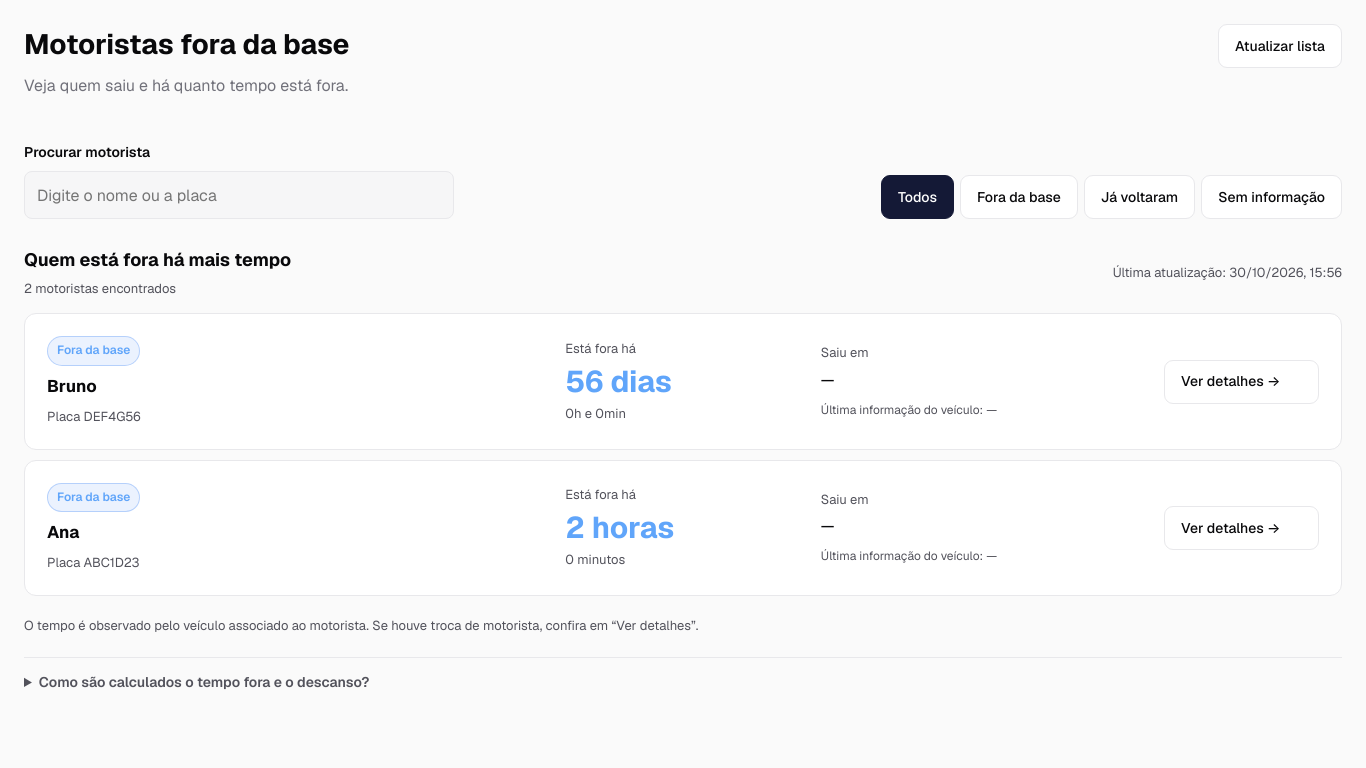
Scenario: prioriza maior tempo fora e mostra uma única ação por motorista antes dos detalhes
Expected: the text "56 dias" is shown, 565,362 -> 672,401
Expected: the button "Registrar uma folga já tirada" is not shown
Click the button with aria-label "Ver detalhes de Bruno" at point(1242, 382), box 1164,360 -> 1319,404
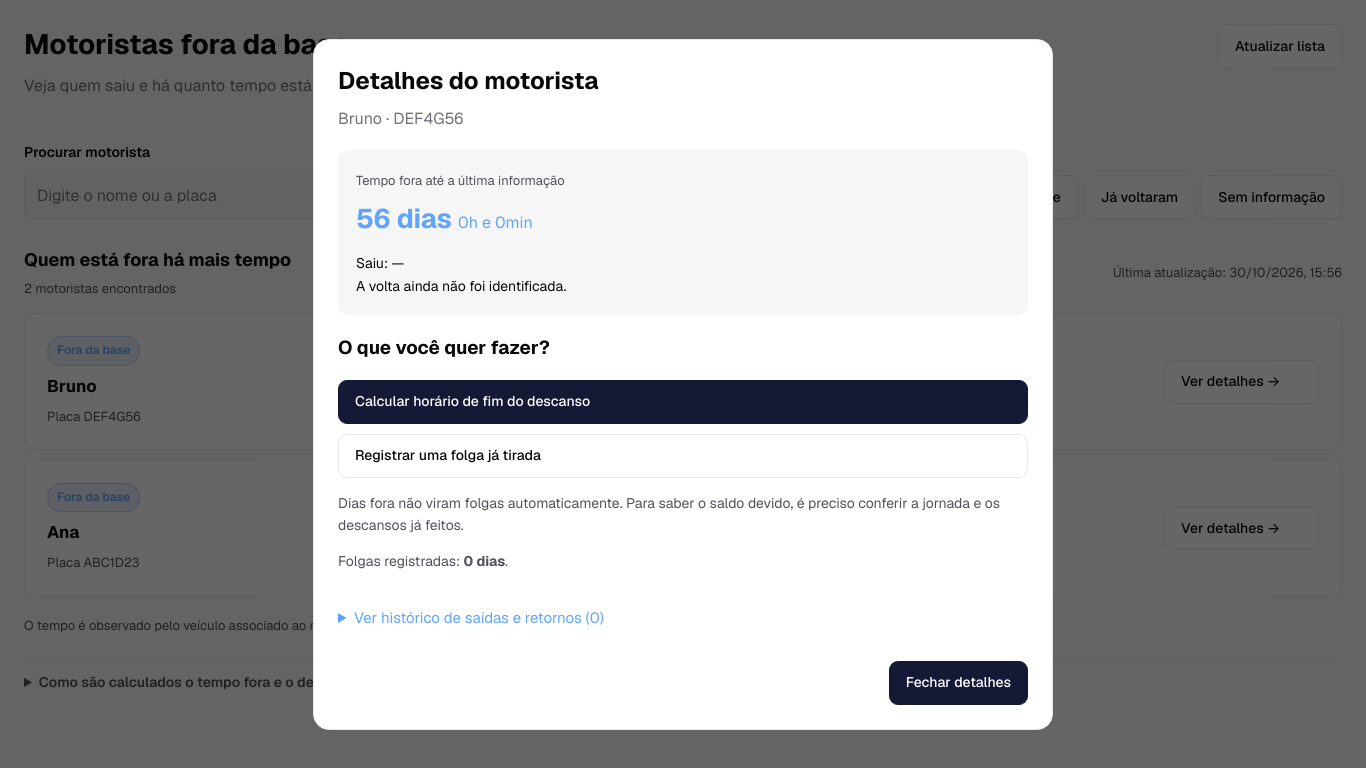
Expected: the button "Registrar uma folga já tirada" is shown, 338,434 -> 1028,478
Press Escape
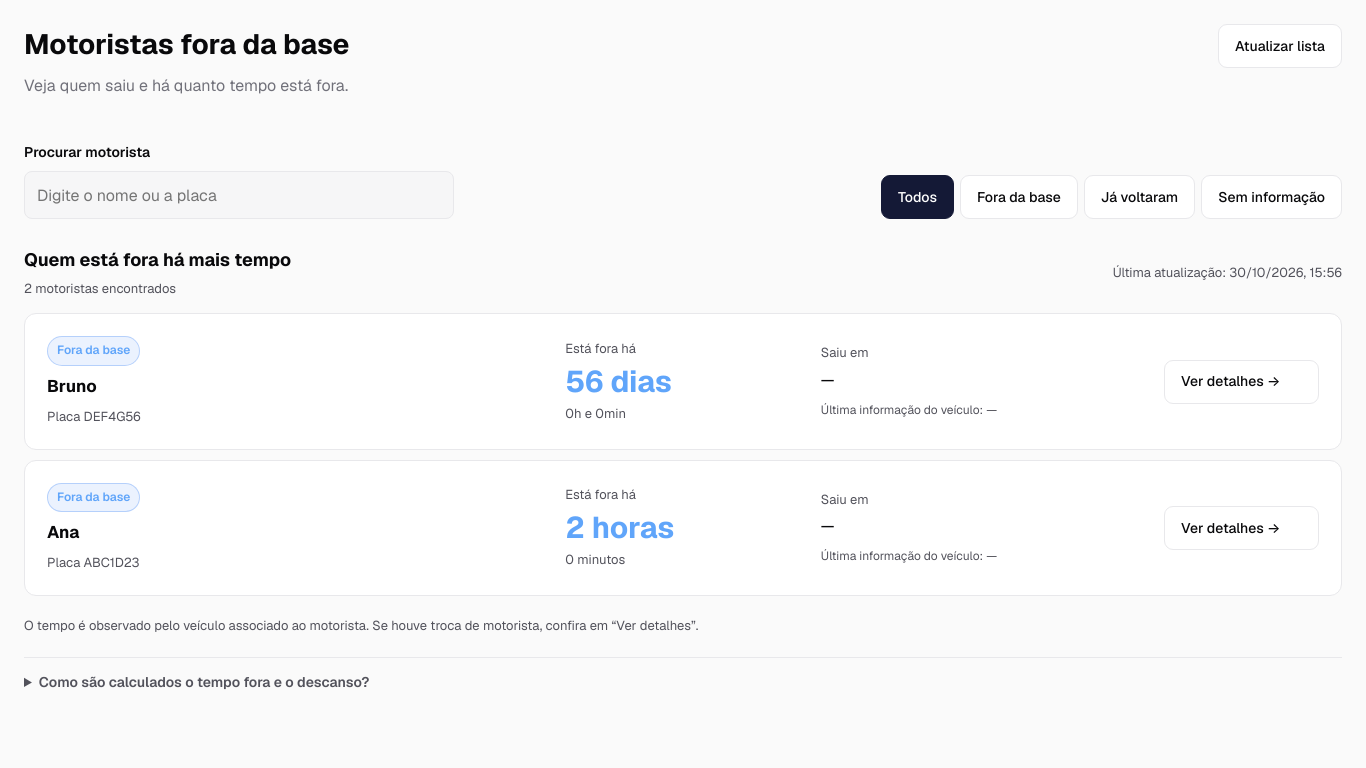
Expected: the dialog is gone
